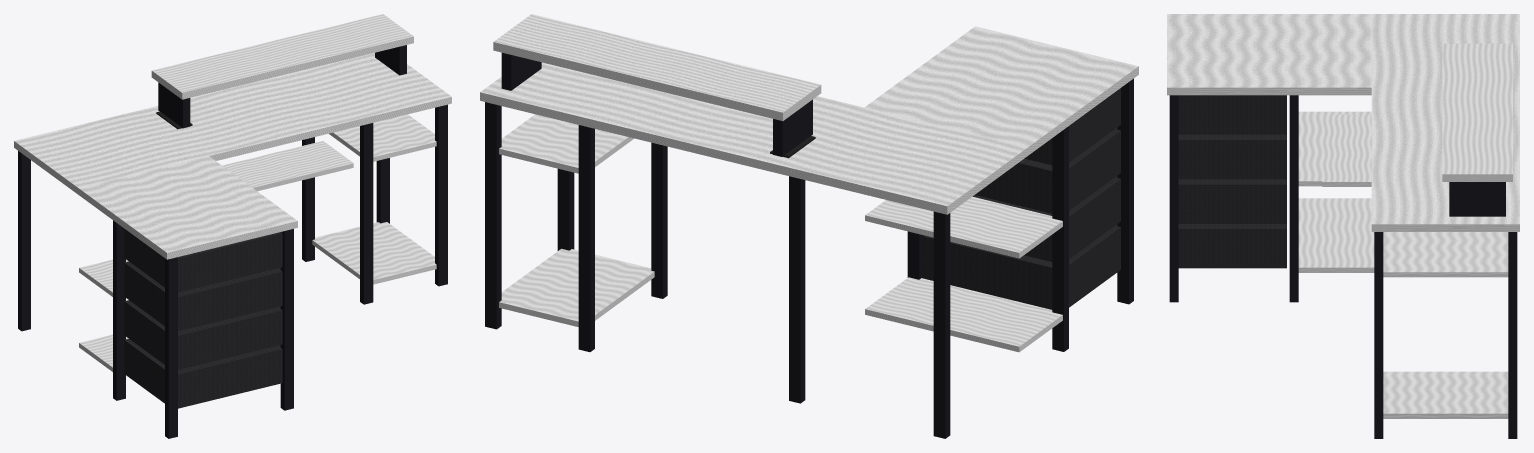
3 renders of one model, left to right at view 1: azimuth 30°, elevation 25°; view 2: azimuth 150°, elevation 25°; view 3: azimuth 270°, elevation 25°, orthographic. The views are drawn at different scales.
Visible parts, largest first — view 1: 1 main_desktop, 2 left_return_desktop, 3 monitor_stand, 8 drawer_2, 9 drawer_3, 10 drawer_4, 7 drawer_1, 14 right_bottom_shelf, 6 keyboard_tray, 13 right_top_shelf, 21 leg_right_front_inner, 15 leg_front_left (+10 smaller); view 2: 1 main_desktop, 2 left_return_desktop, 3 monitor_stand, 10 drawer_4, 12 left_bottom_shelf, 14 right_bottom_shelf, 11 left_middle_shelf, 8 drawer_2, 13 right_top_shelf, 19 leg_back_left, 23 leg_right_back_inner, 20 leg_back_mid (+10 smaller); view 3: 1 main_desktop, 2 left_return_desktop, 3 monitor_stand, 14 right_bottom_shelf, 13 right_top_shelf, 12 left_bottom_shelf, 8 drawer_2, 9 drawer_3, 10 drawer_4, 7 drawer_1, 6 keyboard_tray, 11 left_middle_shelf (+5 smaller).
Part boxes in pixels (box(x1,y1,x2,y2)): 1 main_desktop: box(14, 53, 451, 194); 2 left_return_desktop: box(78, 156, 297, 259); 3 monitor_stand: box(151, 14, 413, 99); 8 drawer_2: box(124, 261, 282, 331); 9 drawer_3: box(124, 300, 282, 369); 10 drawer_4: box(124, 339, 282, 408); 7 drawer_1: box(124, 229, 282, 292); 14 right_bottom_shelf: box(312, 222, 436, 284); 6 keyboard_tray: box(222, 141, 353, 191); 13 right_top_shelf: box(329, 114, 436, 161); 21 leg_right_front_inner: box(360, 123, 373, 304); 15 leg_front_left: box(165, 257, 177, 438); 1 main_desktop: box(480, 62, 1027, 214); 2 left_return_desktop: box(864, 26, 1138, 155); 3 monitor_stand: box(493, 14, 821, 120); 10 drawer_4: box(924, 224, 1120, 309); 12 left_bottom_shelf: box(865, 277, 1062, 352); 14 right_bottom_shelf: box(499, 248, 654, 326); 11 left_middle_shelf: box(865, 196, 1062, 258); 8 drawer_2: box(975, 128, 1120, 213); 13 right_top_shelf: box(499, 114, 634, 173); 19 leg_back_left: box(933, 211, 950, 438); 23 leg_right_back_inner: box(578, 125, 594, 351); 20 leg_back_mid: box(789, 176, 805, 403); 1 main_desktop: box(1371, 14, 1519, 231); 2 left_return_desktop: box(1167, 14, 1371, 95); 3 monitor_stand: box(1442, 43, 1512, 181); 14 right_bottom_shelf: box(1383, 371, 1508, 418); 13 right_top_shelf: box(1383, 232, 1508, 277); 12 left_bottom_shelf: box(1298, 198, 1374, 272); 8 drawer_2: box(1178, 134, 1286, 179); 9 drawer_3: box(1178, 179, 1286, 223); 10 drawer_4: box(1178, 224, 1286, 268); 7 drawer_1: box(1178, 95, 1286, 134); 6 keyboard_tray: box(1322, 114, 1371, 186); 11 left_middle_shelf: box(1298, 111, 1371, 186).
Bounding box in the file's own units: 1.72 × 1 × 1.22.
4 materials, 2 textured.
